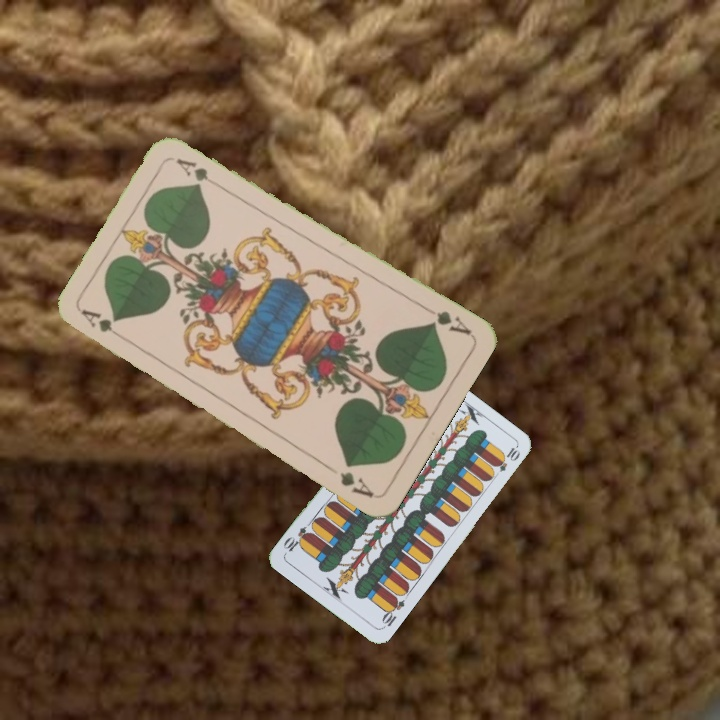E10: (377, 593, 407, 631)
GA: (77, 306, 131, 345), (419, 302, 474, 338)
